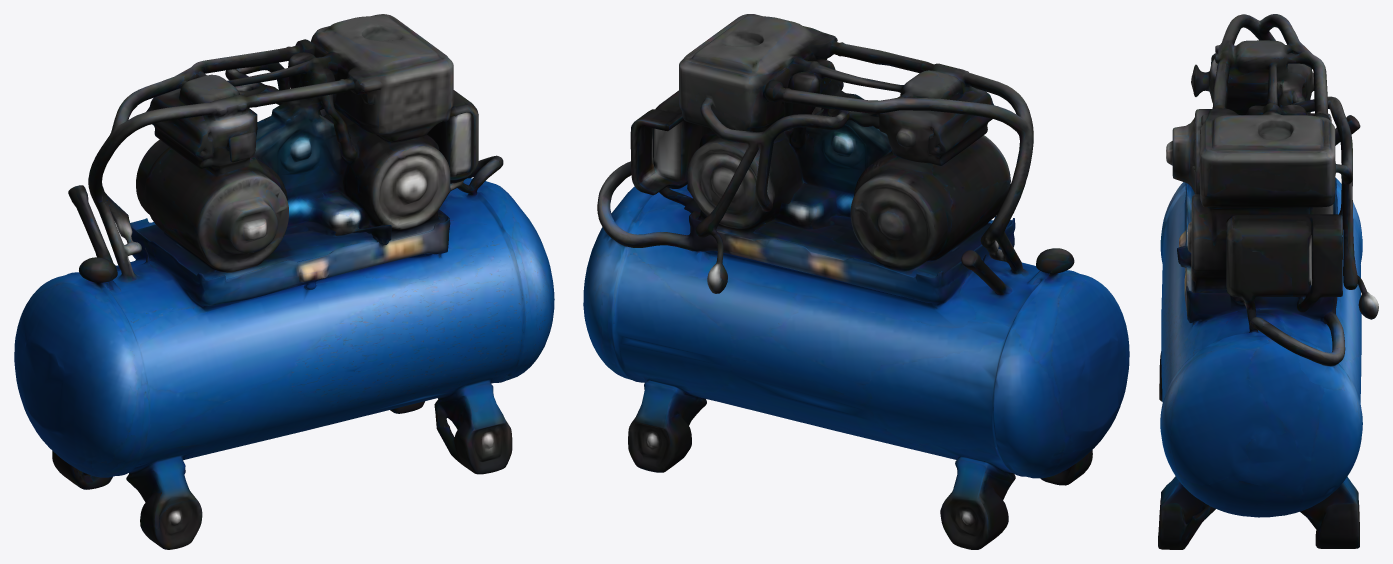
The model's file is air-compressor.glb.
The picture shows the model from 3 angles, left to right: view 1: azimuth 30°, elevation 25°; view 2: azimuth 150°, elevation 25°; view 3: azimuth 270°, elevation 25°; orthographic projection. The views are drawn at different scales.
Parts seen in each view (by area): view 1: node_0; view 2: node_0; view 3: node_0.
Part boxes in pixels (x1=…): node_0: x1=14, y1=14, x2=554, y2=549; node_0: x1=583, y1=14, x2=1129, y2=549; node_0: x1=1158, y1=14, x2=1378, y2=549.
Size of the model in its own units: 1.06 by 0.847 by 0.4307.
Materials: 1 (1 with a texture image).
